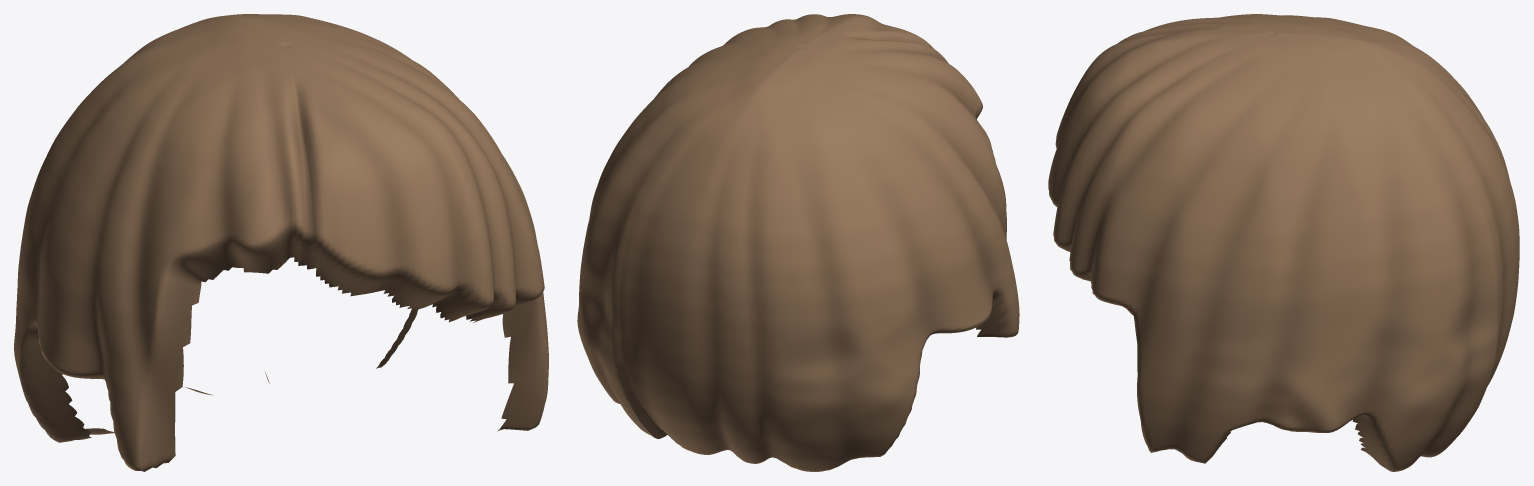
File: swept.gltf
3 views of the same model, side by side, from view 1: azimuth 30°, elevation 25°; view 2: azimuth 150°, elevation 25°; view 3: azimuth 270°, elevation 25° (orthographic). The views are drawn at different scales.
Visible parts, largest first — view 1: Hair_swept; view 2: Hair_swept; view 3: Hair_swept.
Part boxes in pixels (bbox=[...]): Hair_swept: bbox=[14, 14, 548, 471]; Hair_swept: bbox=[577, 14, 1019, 471]; Hair_swept: bbox=[1048, 14, 1519, 471].
Size of the model in its own units: 0.4646 by 0.418 by 0.4673.
